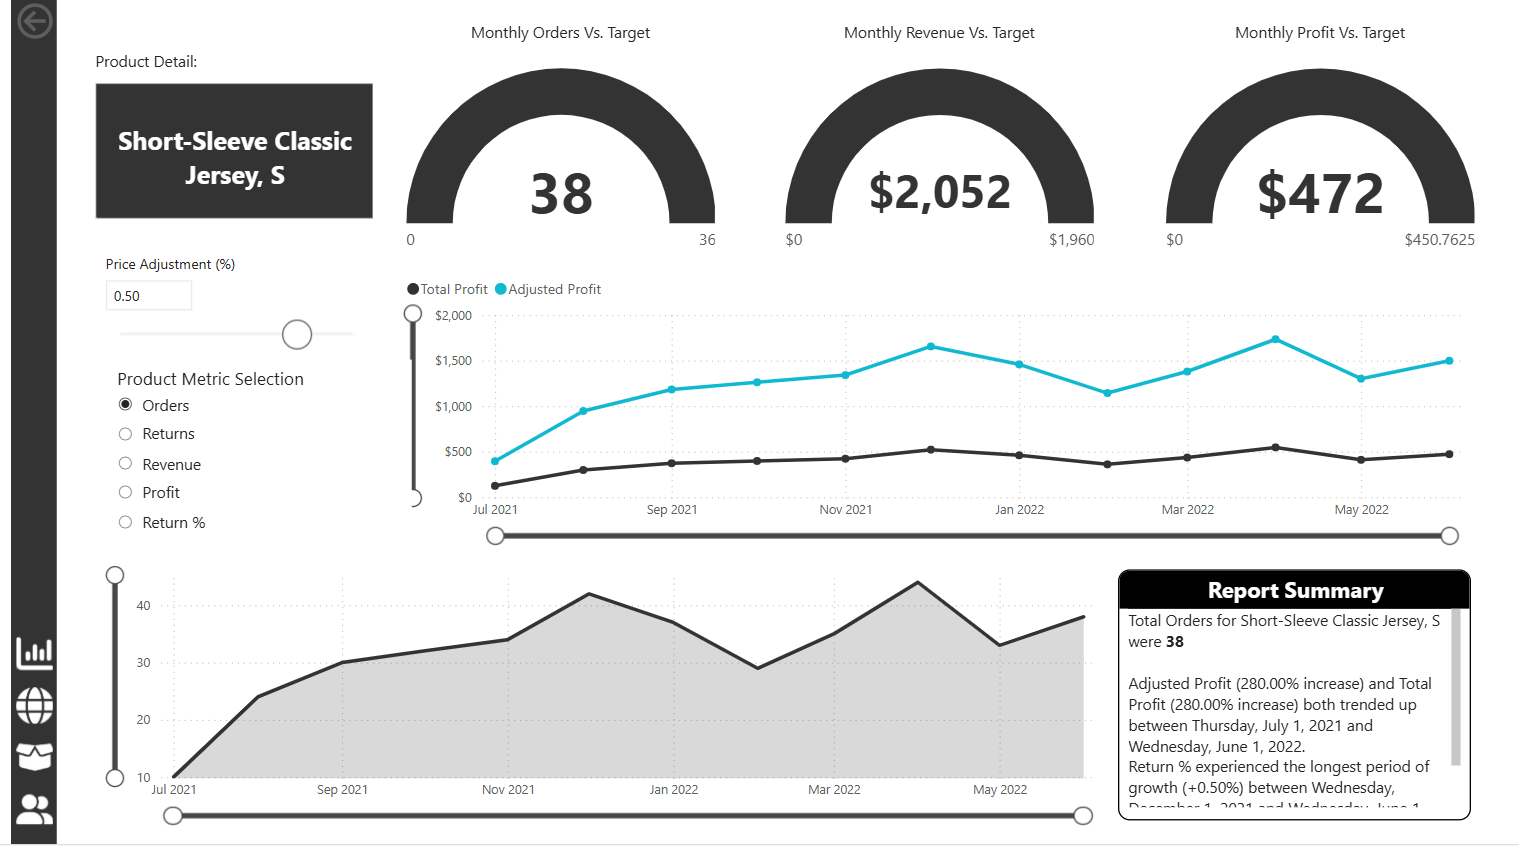

This screenshot's page, from the dashboard's own definition file:
{"tool":"powerbi","page":{"name":"Product Detail","canvas":[1280,720],"ordinal":2},"visuals":[{"type":"shape","box":[0,0,39.4,720.2],"z":0},{"type":"actionButton","box":[0,537.6,100,39.8],"z":0,"group":"g1"},{"type":"gauge","title":"Monthly Orders Vs. Target","fields":{"Y":["Measure Table.Total Orders"],"MaxValue":["Measure Table.Order Target"]},"box":[330.1,20.4,273.1,220.4],"z":1000},{"type":"actionButton","box":[0,581.7,100,39.8],"z":1000,"group":"g1"},{"type":"gauge","title":"Monthly Revenue Vs. Target","fields":{"Y":["Measure Table.Total Revenue"],"MaxValue":["Measure Table.Revenue Target"]},"box":[652.4,20.6,273,220.6],"z":2000},{"type":"actionButton","box":[0,625.8,100,39.8],"z":2000,"group":"g1"},{"type":"gauge","title":"Monthly Profit Vs. Target","fields":{"Y":["Measure Table.Total Profit"],"MaxValue":["Measure Table.Profit Target"]},"box":[976.2,20.6,273,220.6],"z":3000},{"type":"actionButton","box":[0,669.9,100,39.8],"z":3000,"group":"g1"},{"type":"lineChart","title":"Profit Trending","fields":{"Category":["Calendar Lookup.DateHierarchy.Start of Year","Calendar Lookup.DateHierarchy.Start of Month","Calendar Lookup.DateHierarchy.Date"],"Y":["Measure Table.Total Profit","Measure Table.Adjusted Profit"]},"box":[330.3,227.6,921.1,240.8],"z":4000},{"type":"areaChart","title":"Returns Trending","fields":{"Y":["Measure Table.Total Orders"],"Category":["Calendar Lookup.DateHierarchy.Start of Year","Calendar Lookup.DateHierarchy.Start of Month","Calendar Lookup.DateHierarchy.Date"]},"box":[77,478.4,863.5,228.4],"z":5000},{"type":"cardVisual","fields":{"Data":["Min(Product Lookup.ProductName)"]},"box":[66.7,67.7,246.2,125.8],"z":6000},{"type":"textbox","box":[66.7,39.8,333.3,28],"z":7000},{"type":"group","id":"g1","title":"Navigation Buttons","box":[0,537.6,100,172],"z":8000},{"type":"slicer","fields":{"Values":["Price Adjustment (%).Price Adjustment (%)"]},"box":[67.1,211.8,246.1,96.1],"z":9000},{"type":"slicer","fields":{"Values":["Product Metric Selection.Product Metric Selection"]},"box":[77.6,307.9,263.2,160.5],"z":10000},{"type":"textbox","title":"Report Summary","box":[940.5,486.5,300,213.5],"z":11000},{"type":"actionButton","box":[0,0,100,40],"z":12000}]}

Visuals, with their boxes on the page's 1280x720 design canvas (x1, y1, x2, y2). These are canvas units, not pixel positions in the 1519x846 screenshot, which may show the page scaled, cropped or inside an application window:
shape: (0,0,39,720)
actionButton: (0,538,100,577)
"Monthly Orders Vs. Target" gauge: (330,20,603,241)
actionButton: (0,582,100,622)
"Monthly Revenue Vs. Target" gauge: (652,21,925,241)
actionButton: (0,626,100,666)
"Monthly Profit Vs. Target" gauge: (976,21,1249,241)
actionButton: (0,670,100,710)
"Profit Trending" lineChart: (330,228,1251,468)
"Returns Trending" areaChart: (77,478,940,707)
cardVisual - Min(Product Lookup.ProductName): (67,68,313,194)
textbox: (67,40,400,68)
"Navigation Buttons" group: (0,538,100,710)
slicer - Price Adjustment (%).Price Adjustment (%): (67,212,313,308)
slicer - Product Metric Selection.Product Metric Selection: (78,308,341,468)
"Report Summary" textbox: (940,486,1240,700)
actionButton: (0,0,100,40)
